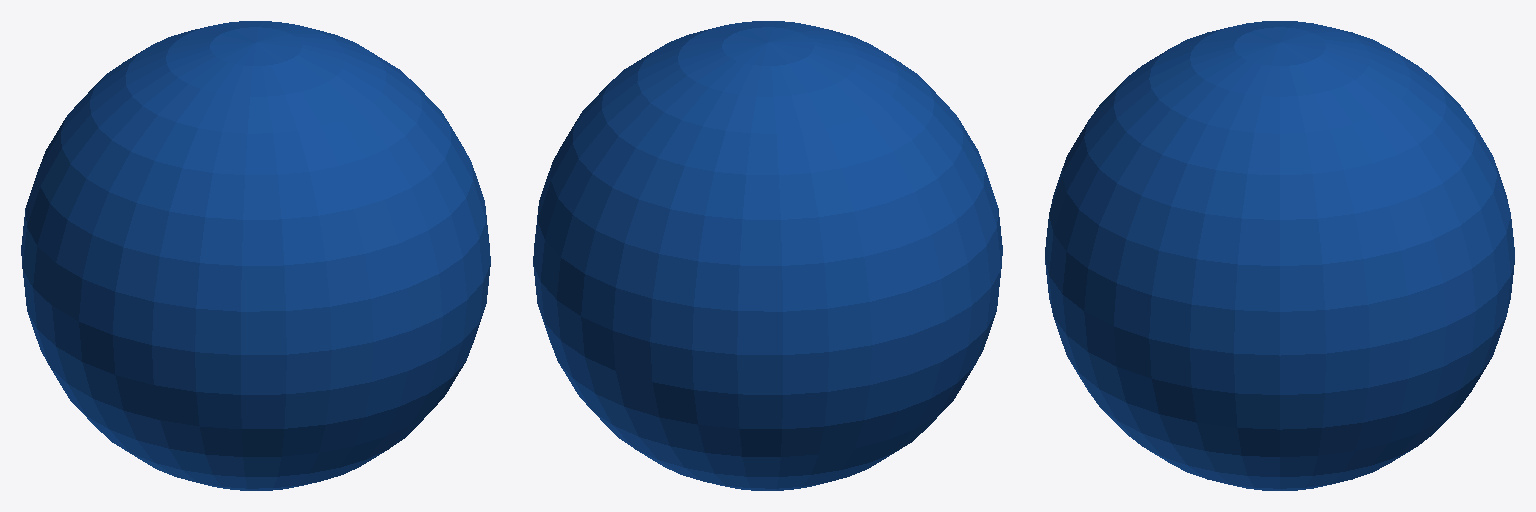
The model's file is sphere_flat.obj.
3 views of the same model, side by side, from view 1: azimuth 30°, elevation 25°; view 2: azimuth 150°, elevation 25°; view 3: azimuth 270°, elevation 25° (orthographic).
Visible parts, largest first — view 1: Sphere; view 2: Sphere; view 3: Sphere.
Part boxes in pixels (bbox=[...]): Sphere: bbox=[21, 21, 490, 490]; Sphere: bbox=[533, 21, 1002, 490]; Sphere: bbox=[1045, 21, 1514, 490].
Bounding box in the file's own units: 2 × 2 × 2.